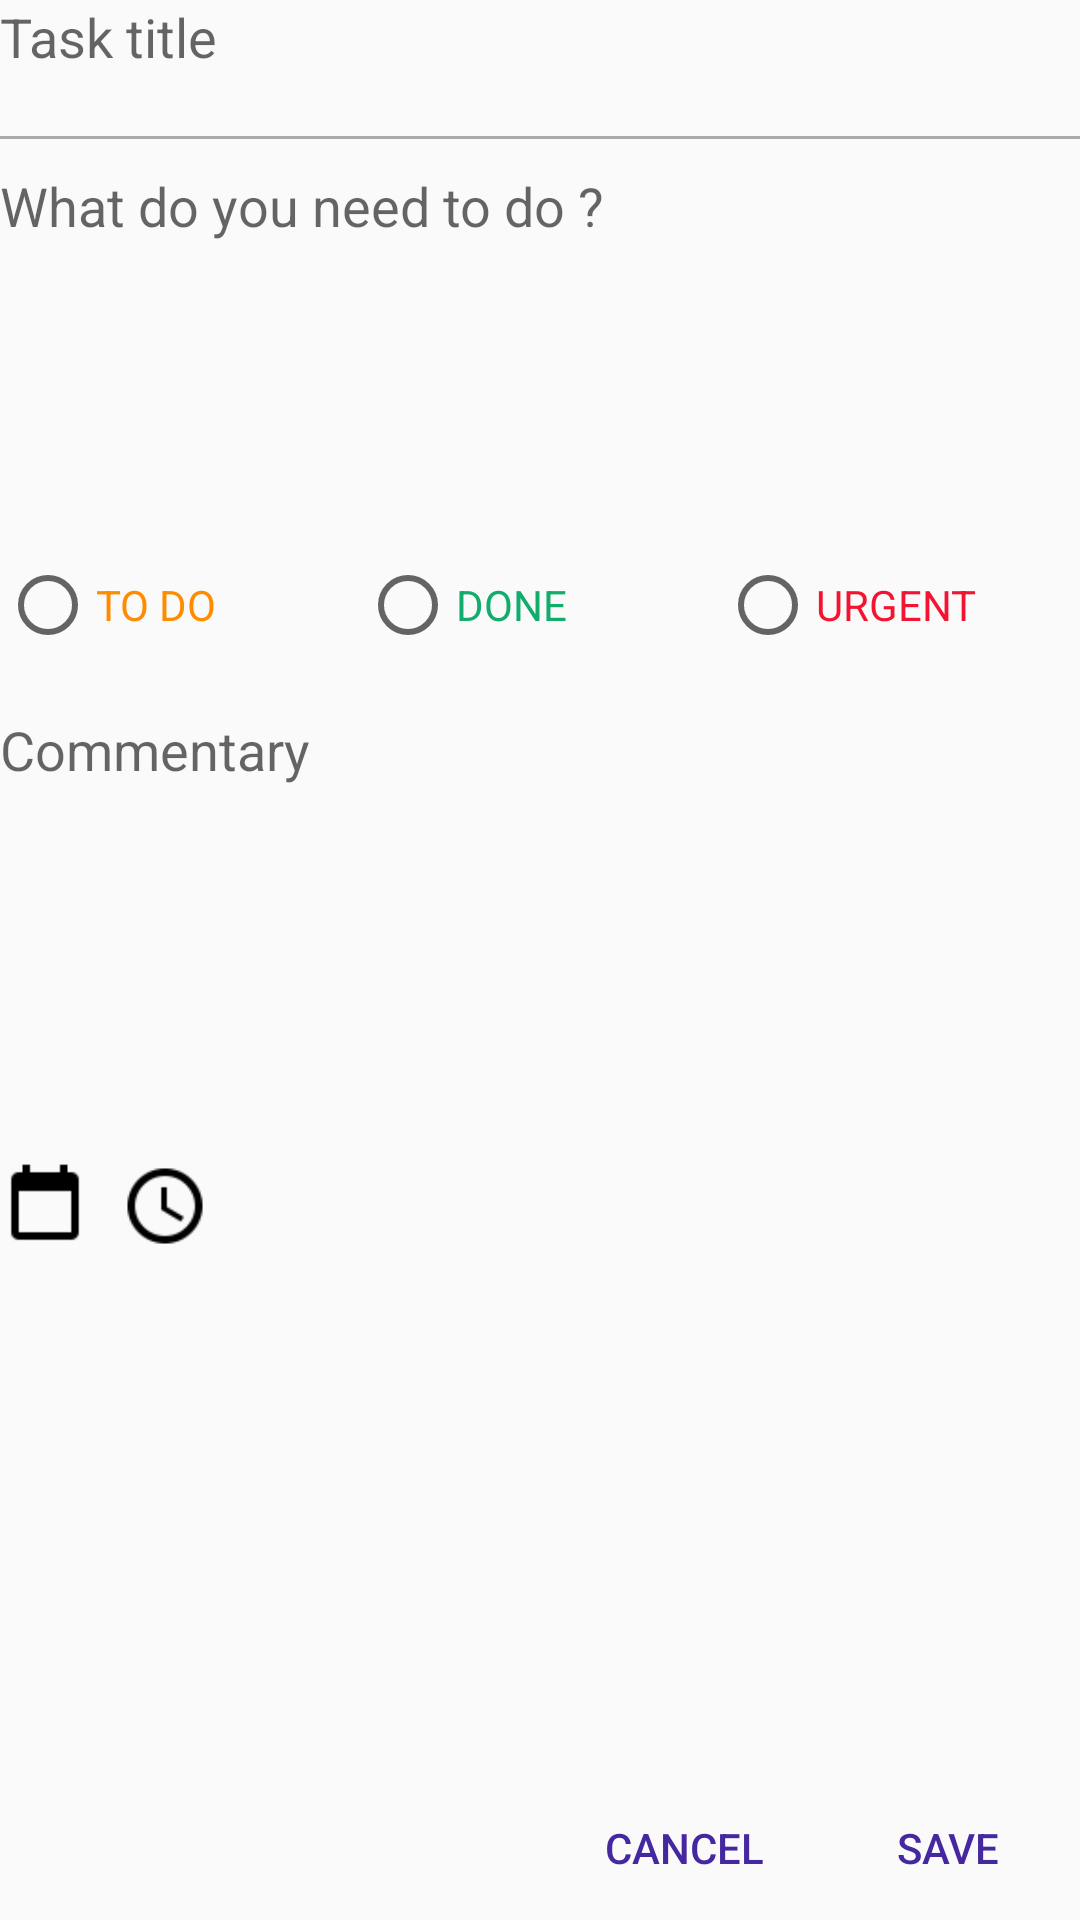

Screen size 1080w x 1920h. Icon name, then its box in pixels as (x1, y1, x2, y2):
calendar: (10, 1164, 80, 1241)
clock: (127, 1168, 203, 1244)
